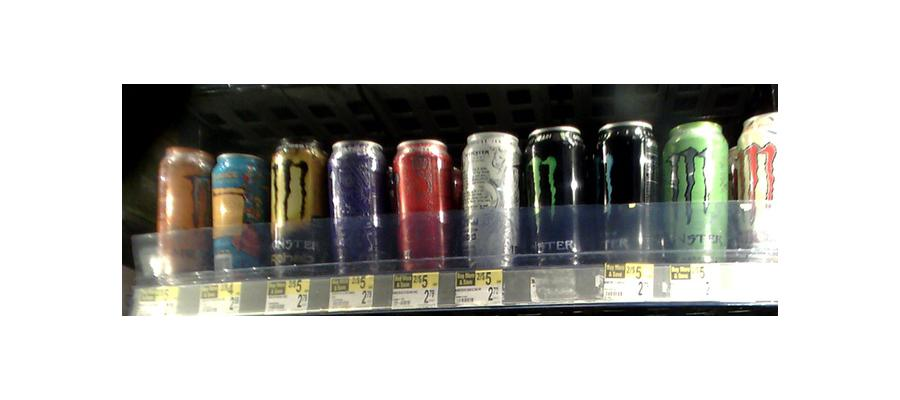bottle: (663, 122, 732, 264), (523, 129, 589, 267), (596, 122, 659, 259), (459, 133, 519, 274), (152, 143, 210, 285), (268, 136, 324, 277), (392, 142, 452, 273), (329, 142, 387, 276), (210, 150, 263, 278), (741, 104, 785, 255)
